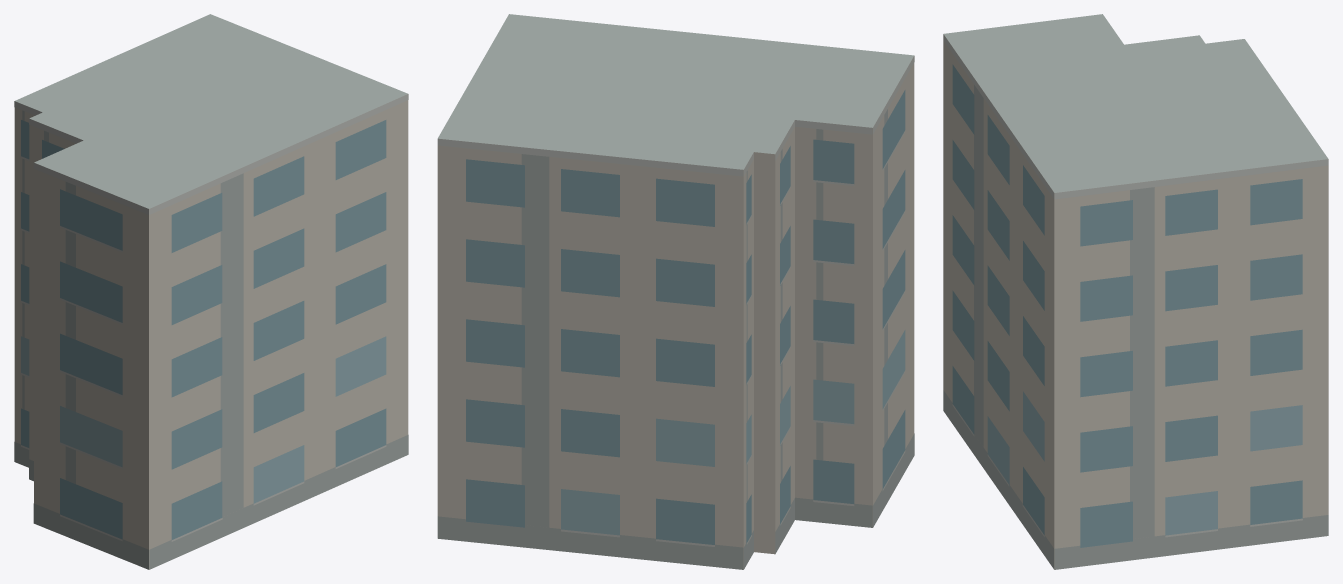
Rendered from survey-upis-32852242.glb.
3 views of the same model, side by side, from view 1: azimuth 30°, elevation 25°; view 2: azimuth 150°, elevation 25°; view 3: azimuth 270°, elevation 25° (orthographic). The views are drawn at different scales.
Visible parts, largest first — view 1: survey-upis-32852242.tmp; view 2: survey-upis-32852242.tmp; view 3: survey-upis-32852242.tmp.
Part boxes in pixels (x1=…): survey-upis-32852242.tmp: x1=14, y1=14, x2=408, y2=569; survey-upis-32852242.tmp: x1=437, y1=14, x2=914, y2=569; survey-upis-32852242.tmp: x1=943, y1=14, x2=1328, y2=569.
Bounding box in the file's own units: 14.58 × 14.3 × 13.26.
